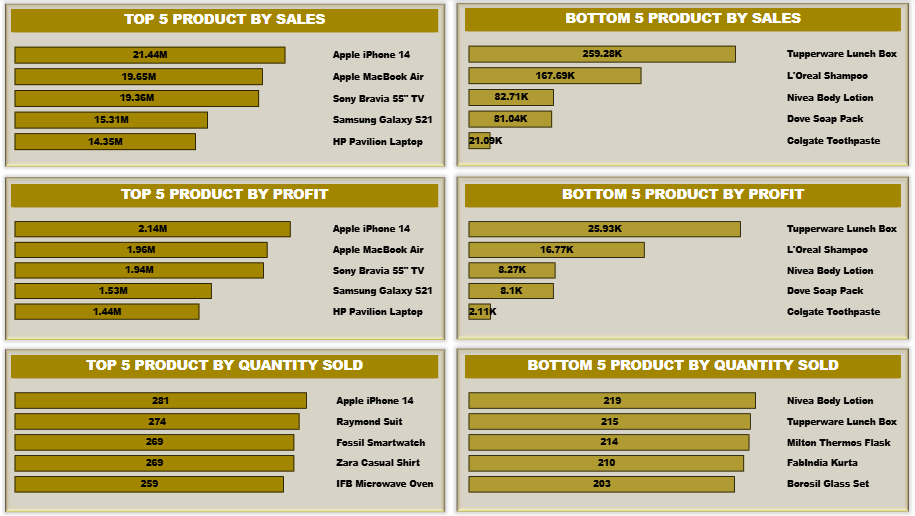

What the dashboard file says about the page in this screenshot:
{"tool":"powerbi","page":{"name":"Top/Bottom Analysis","canvas":[1280,720],"ordinal":0},"visuals":[{"type":"barChart","title":"TOP 5 PRODUCT BY SALES","fields":{"Category":["Dim Product.Product Name"],"Y":["Sum(Fact Table.Net Sales)"]},"box":[26.2,15.1,587.7,212],"z":0},{"type":"barChart","title":"BOTTOM 5 PRODUCT BY SALES","fields":{"Category":["Dim Product.Product Name"],"Y":["Sum(Fact Table.Net Sales)"]},"box":[651,13.8,600.1,212],"z":1000},{"type":"barChart","title":"TOP 5 PRODUCT BY PROFIT","fields":{"Category":["Dim Product.Product Name"],"Y":["Sum(Fact Table.Profit)"]},"box":[26.2,256,587.7,203.7],"z":2000},{"type":"barChart","title":"BOTTOM 5 PRODUCT BY PROFIT","fields":{"Category":["Dim Product.Product Name"],"Y":["Sum(Fact Table.Profit)"]},"box":[651,256,600.1,203.7],"z":3000},{"type":"barChart","title":"TOP 5 PRODUCT BY QUANTITY SOLD","fields":{"Category":["Dim Product.Product Name"],"Y":["Sum(Fact Table.Units Sold)"]},"box":[26.2,491.4,587.7,206.5],"z":4000},{"type":"barChart","title":"BOTTOM 5 PRODUCT BY QUANTITY SOLD","fields":{"Category":["Dim Product.Product Name"],"Y":["Sum(Fact Table.Units Sold)"]},"box":[651,491.4,600.1,206.5],"z":5000}]}

Visuals, with their boxes in screenshot pixels (x1, y1, x2, y2), scaled from the page's 1280x720 canvas onto the 915x516 screenshot:
"TOP 5 PRODUCT BY SALES" barChart: <bbox>19, 11, 439, 163</bbox>
"BOTTOM 5 PRODUCT BY SALES" barChart: <bbox>465, 10, 894, 162</bbox>
"TOP 5 PRODUCT BY PROFIT" barChart: <bbox>19, 183, 439, 329</bbox>
"BOTTOM 5 PRODUCT BY PROFIT" barChart: <bbox>465, 183, 894, 329</bbox>
"TOP 5 PRODUCT BY QUANTITY SOLD" barChart: <bbox>19, 352, 439, 500</bbox>
"BOTTOM 5 PRODUCT BY QUANTITY SOLD" barChart: <bbox>465, 352, 894, 500</bbox>
